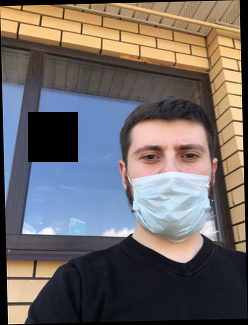with_mask: (128, 134, 211, 244)
